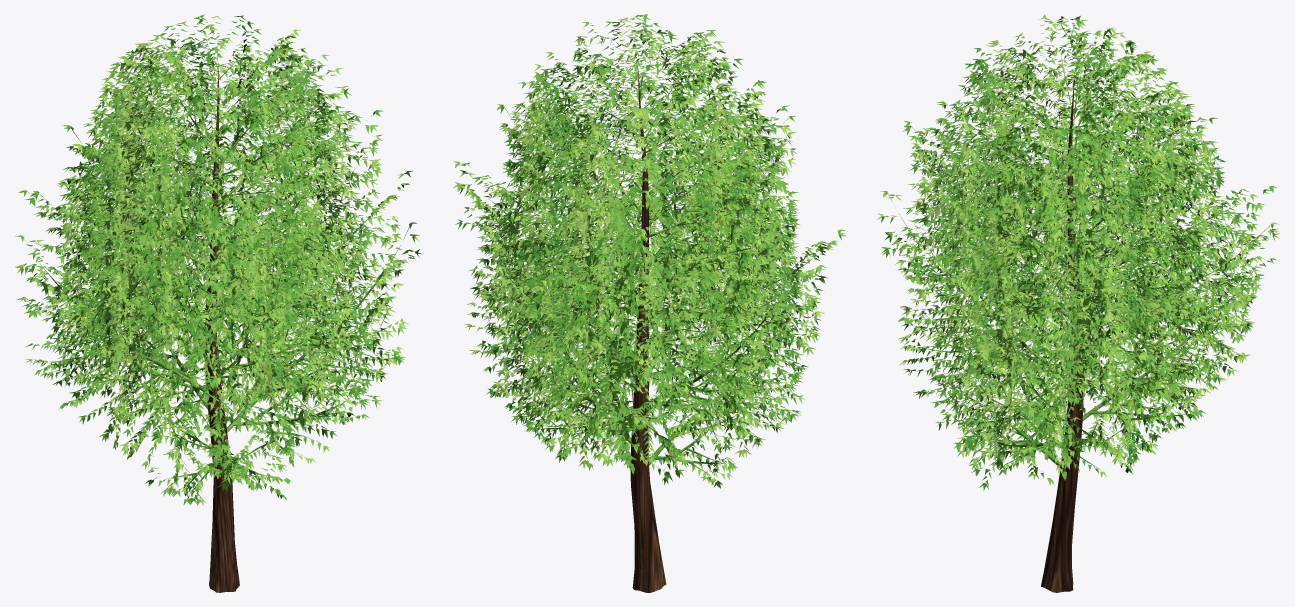
The model's file is nuevoArbol.obj.
The picture shows the model from 3 angles, left to right: view 1: azimuth 30°, elevation 25°; view 2: azimuth 150°, elevation 25°; view 3: azimuth 270°, elevation 25°; orthographic projection.
Parts seen in each view (by area): view 1: Tree; view 2: Tree; view 3: Tree.
Boxes of the visible parts, box(x1,y1,x2,y2) form: Tree: box(15, 14, 421, 592); Tree: box(453, 14, 847, 592); Tree: box(877, 14, 1279, 592).
Bounding box in the file's own units: 6886 × 9704 × 6496.
2 materials, 2 textured.
